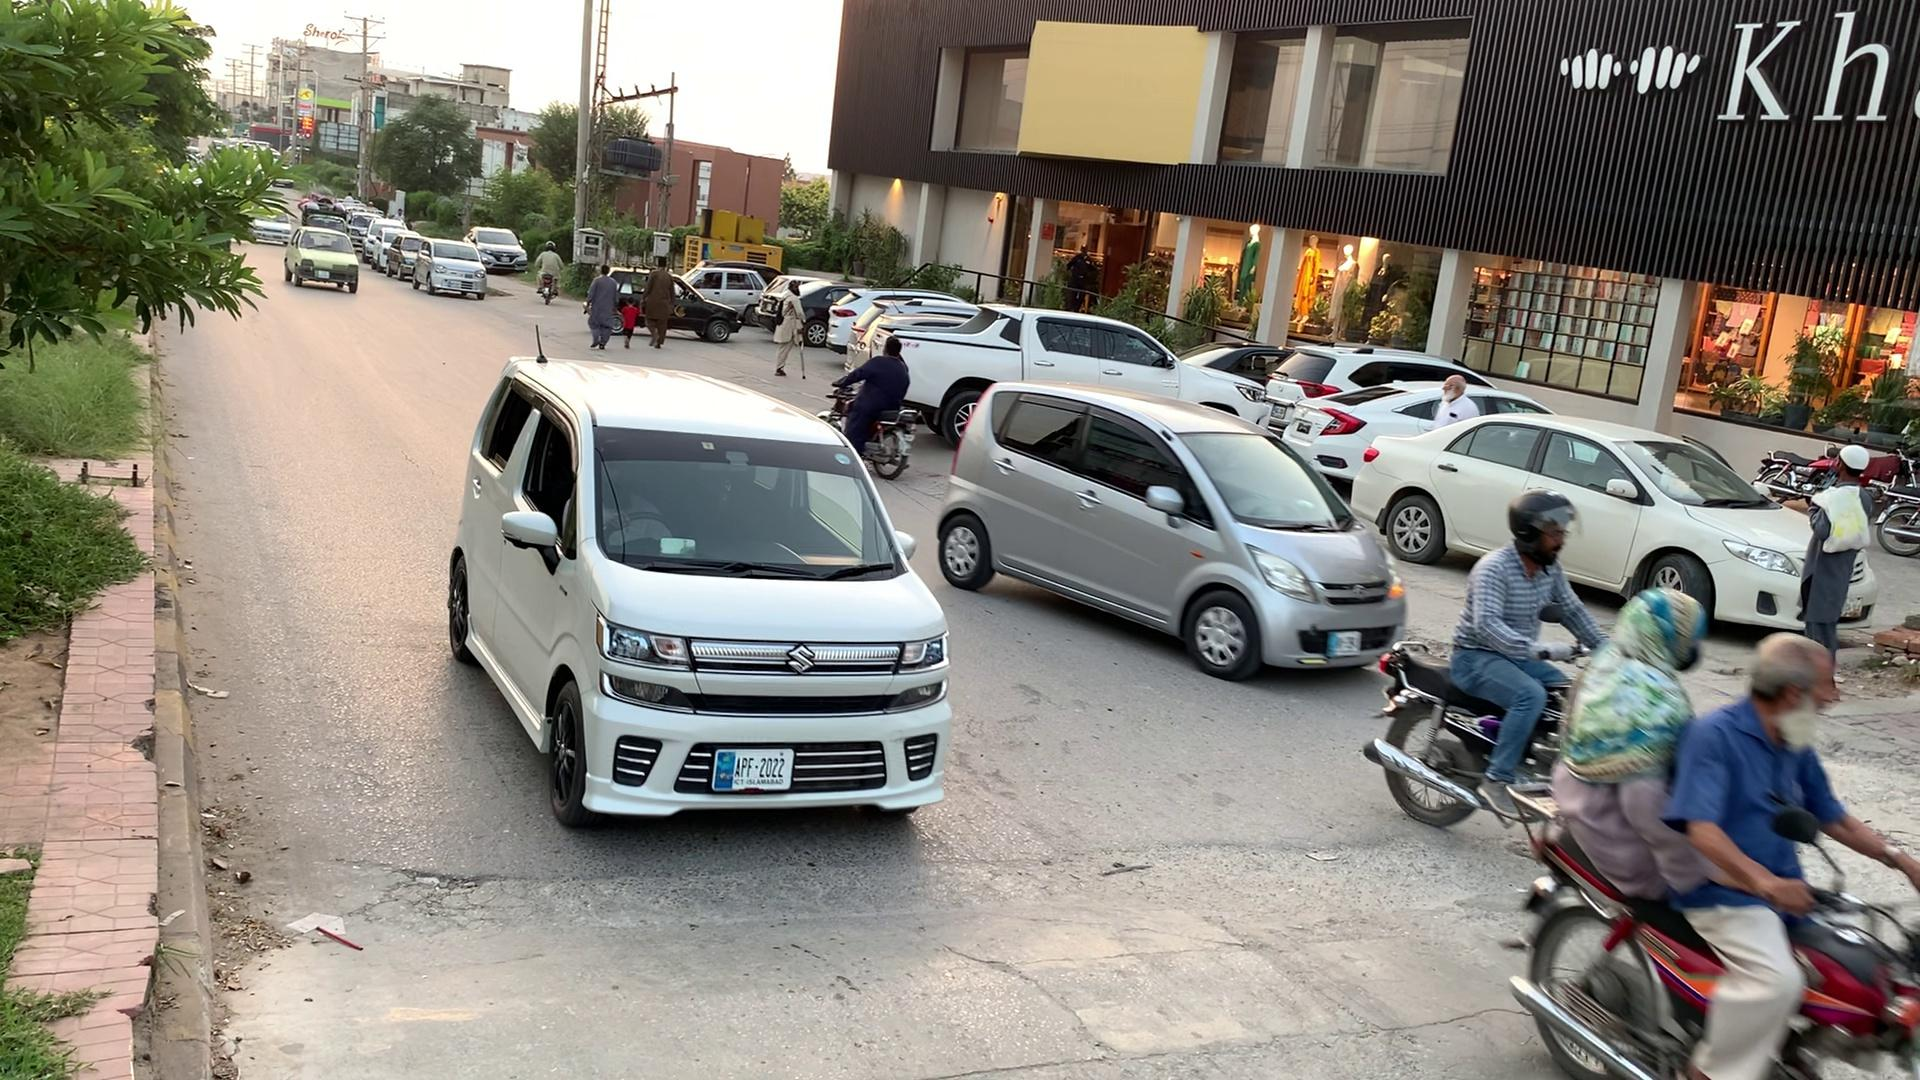windshield: (595, 419, 911, 576), (1174, 419, 1364, 543)
